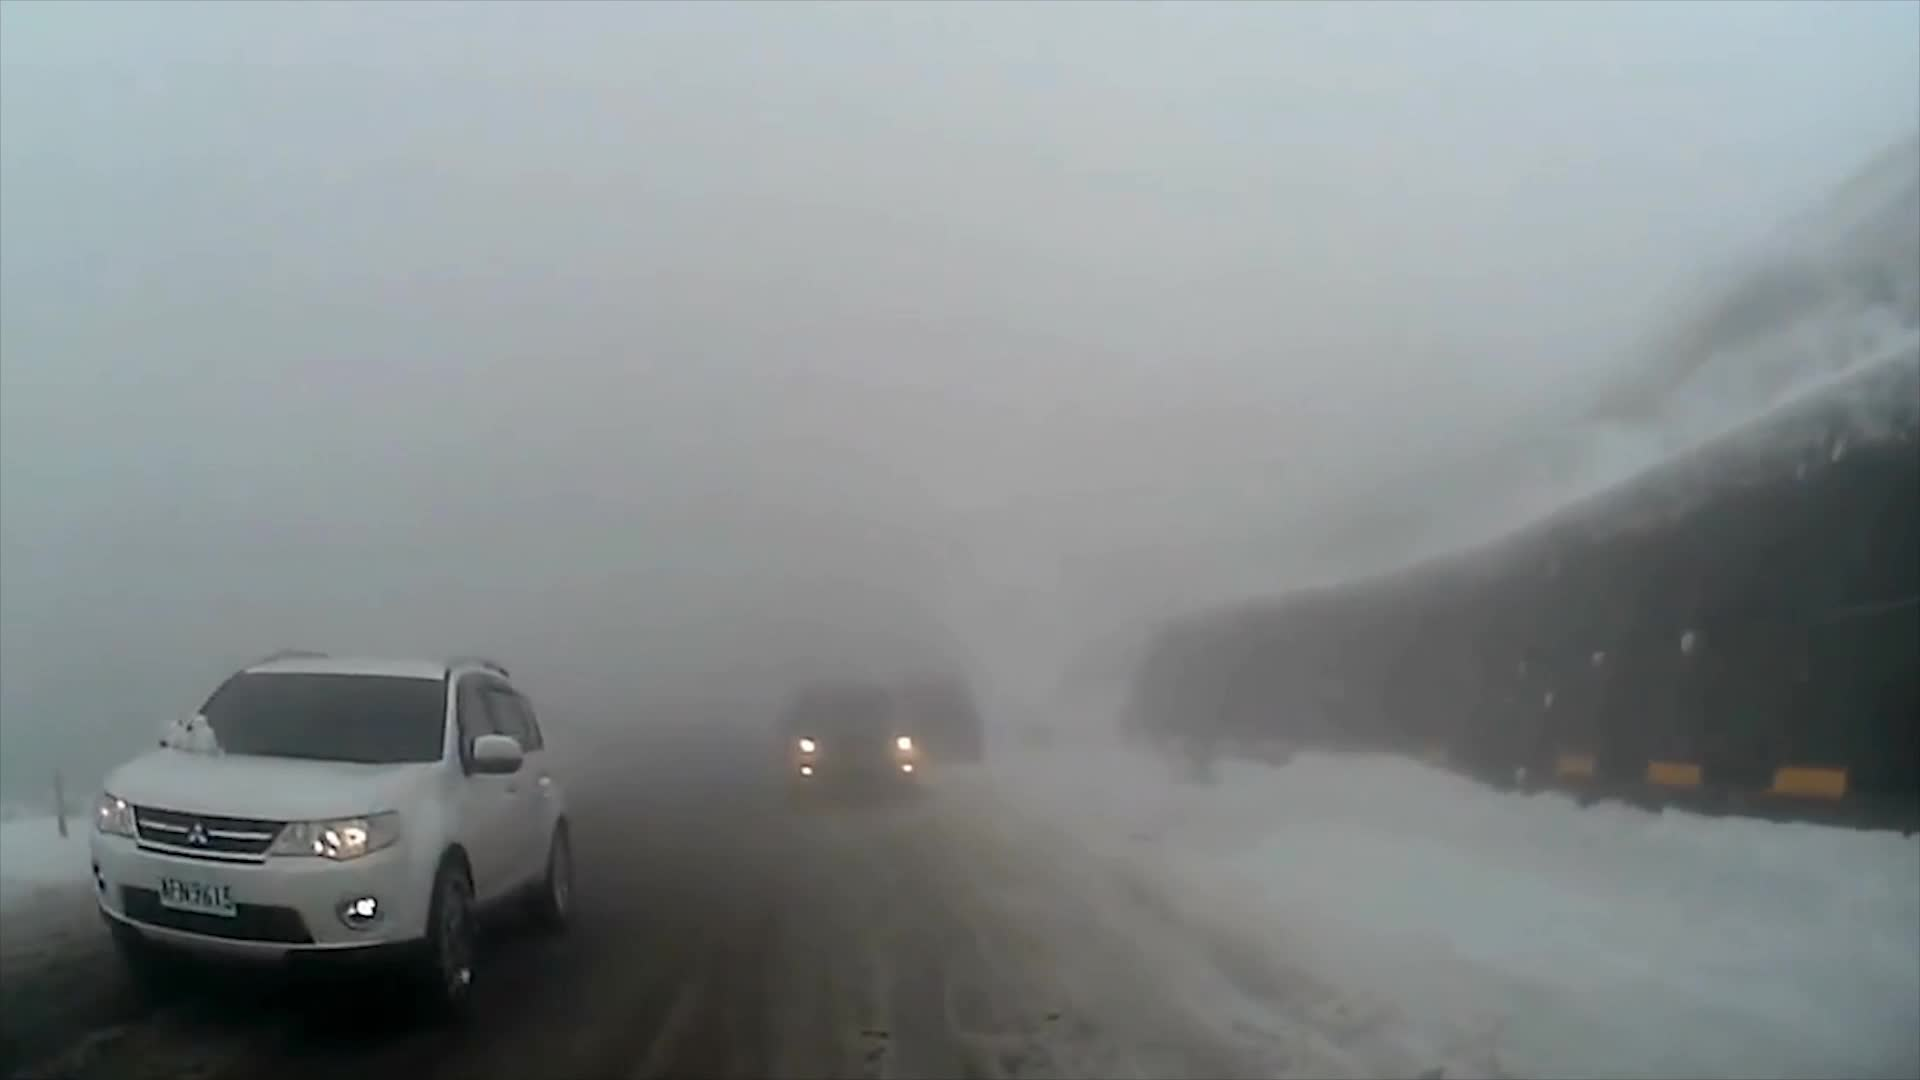vehicle: (86, 646, 574, 1013), (775, 678, 918, 802)
